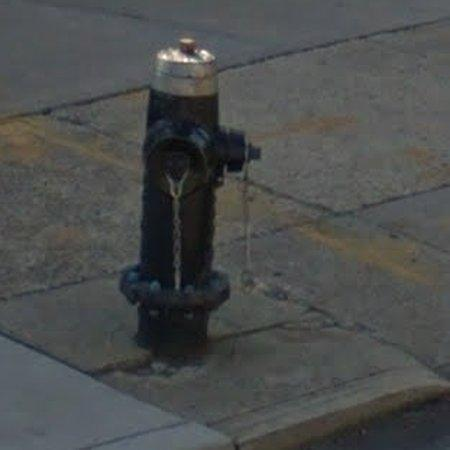a fire hydrant: (120, 38, 261, 346)
